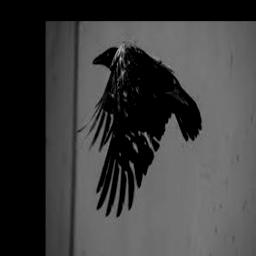Crow: (76, 44, 202, 217)
